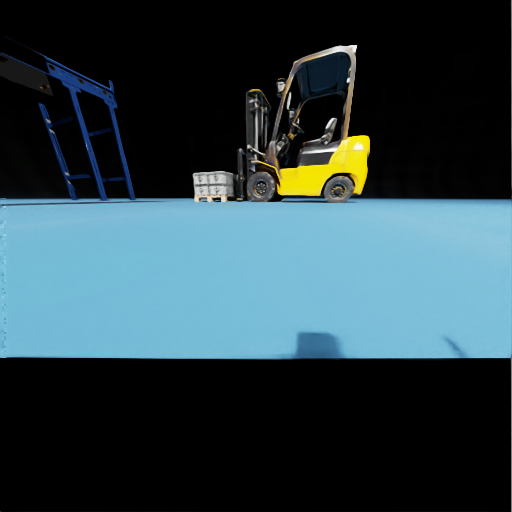transportation_area: (209, 184, 237, 194)
